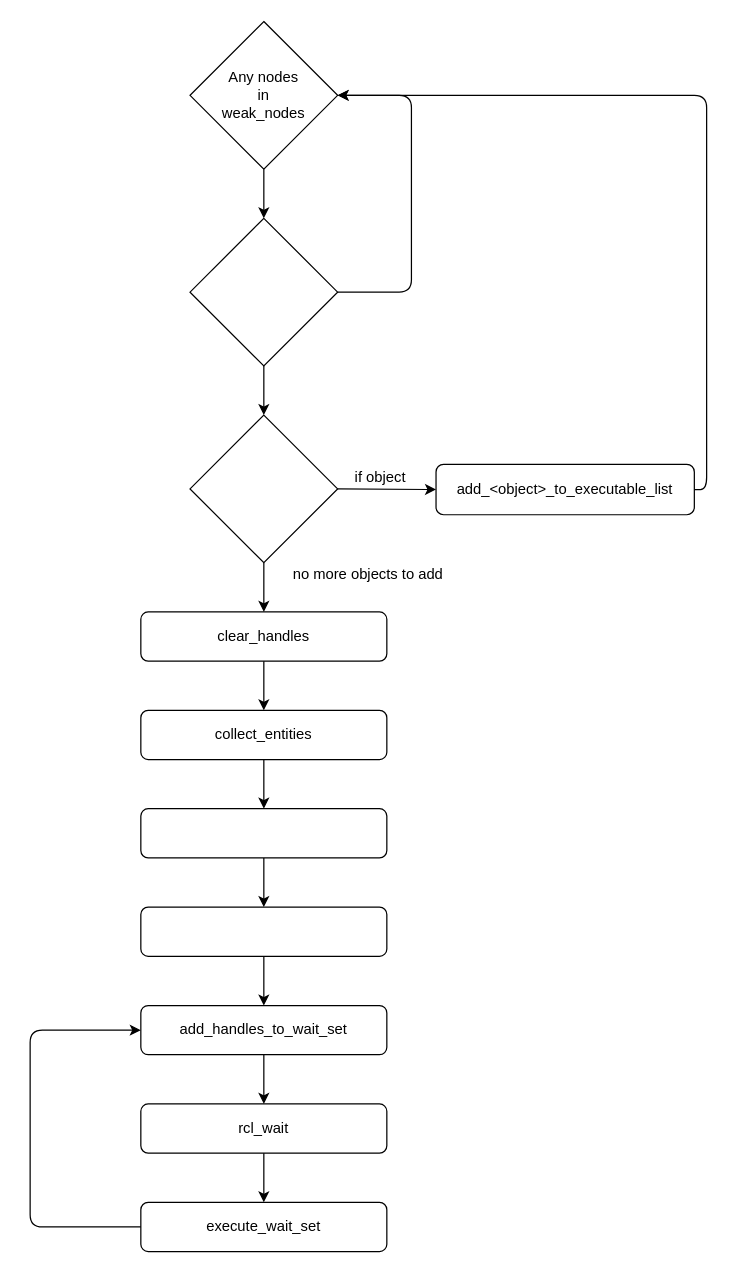
The diagram is 738 pixels wide and 1273 high, and some of its shapes have lost their labels. Each missing label, with the centre of its shape:
Any <object> in <objects>: the point at 263,488
Any callback_group in callback_groups: the point at 263,291
rcl_wait_set_clear: the point at 263,832
rcl_wait_set_resize: the point at 263,931
